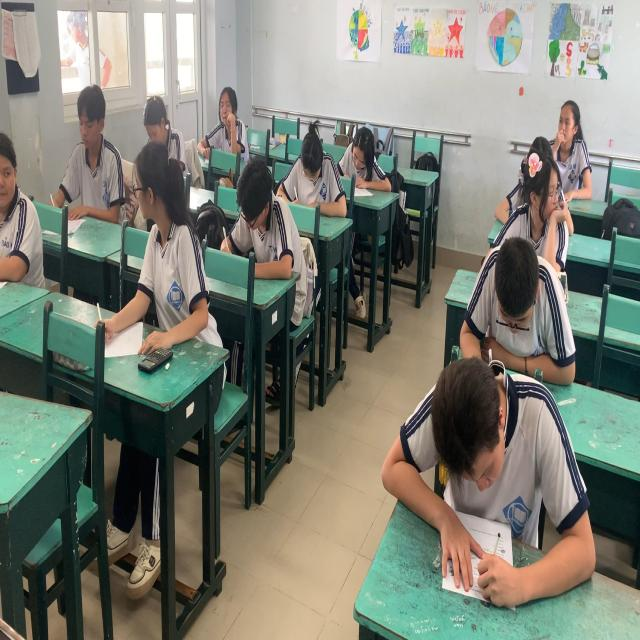cheating: (115, 142, 208, 355), (0, 107, 43, 299)
not_cheating: (415, 352, 591, 556), (468, 244, 559, 363), (61, 71, 121, 226), (232, 154, 297, 296), (132, 84, 192, 179), (508, 158, 564, 249), (288, 128, 338, 212), (553, 87, 591, 196), (203, 74, 249, 156), (342, 123, 387, 205)
